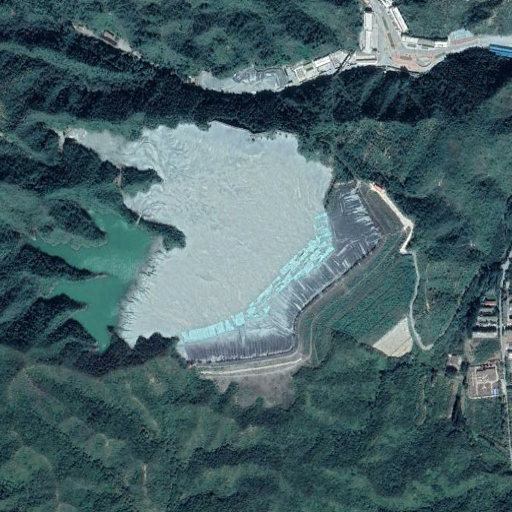tp: (61, 122, 391, 376)
